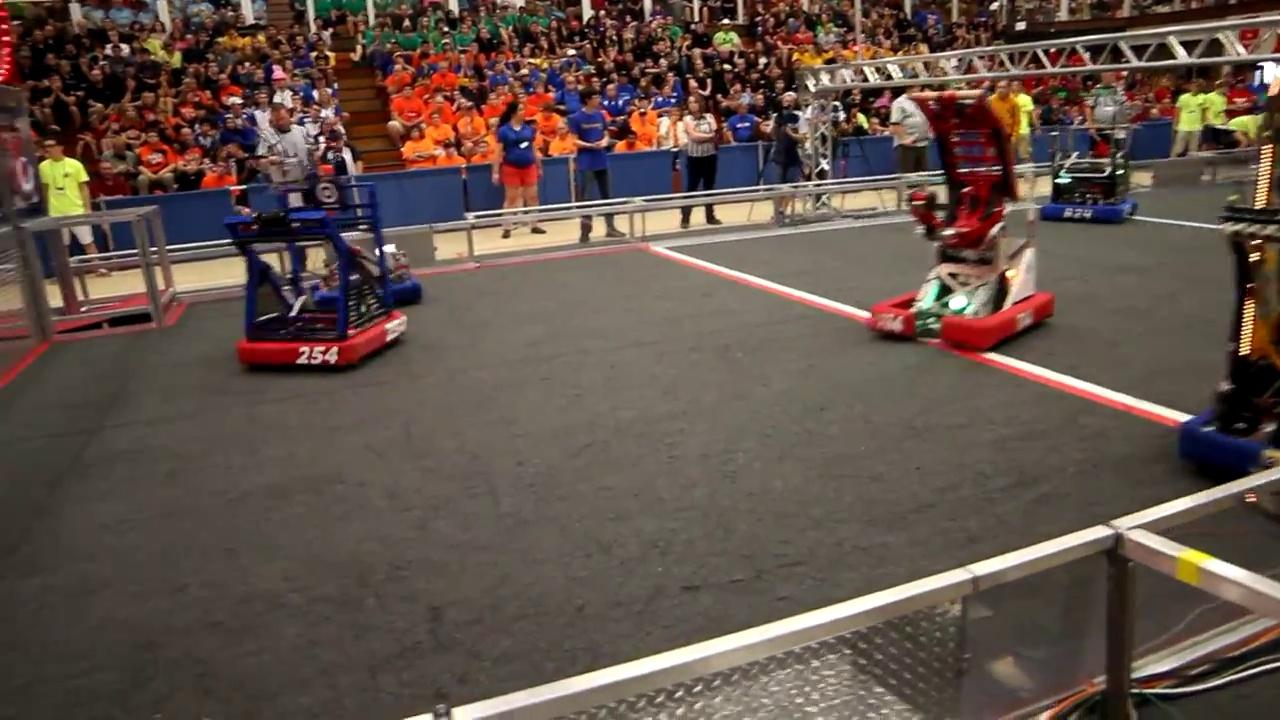robot: (865, 86, 1058, 358), (226, 190, 414, 377), (1039, 141, 1144, 227)
